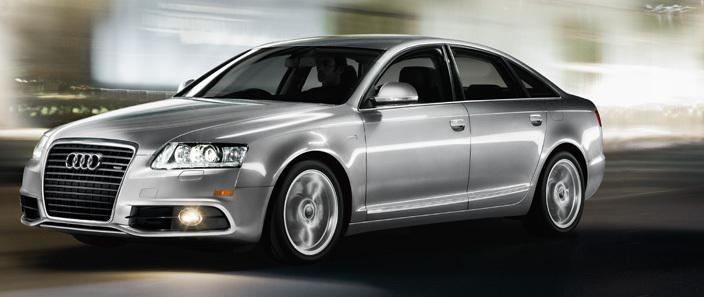Car: (2, 17, 624, 278)
